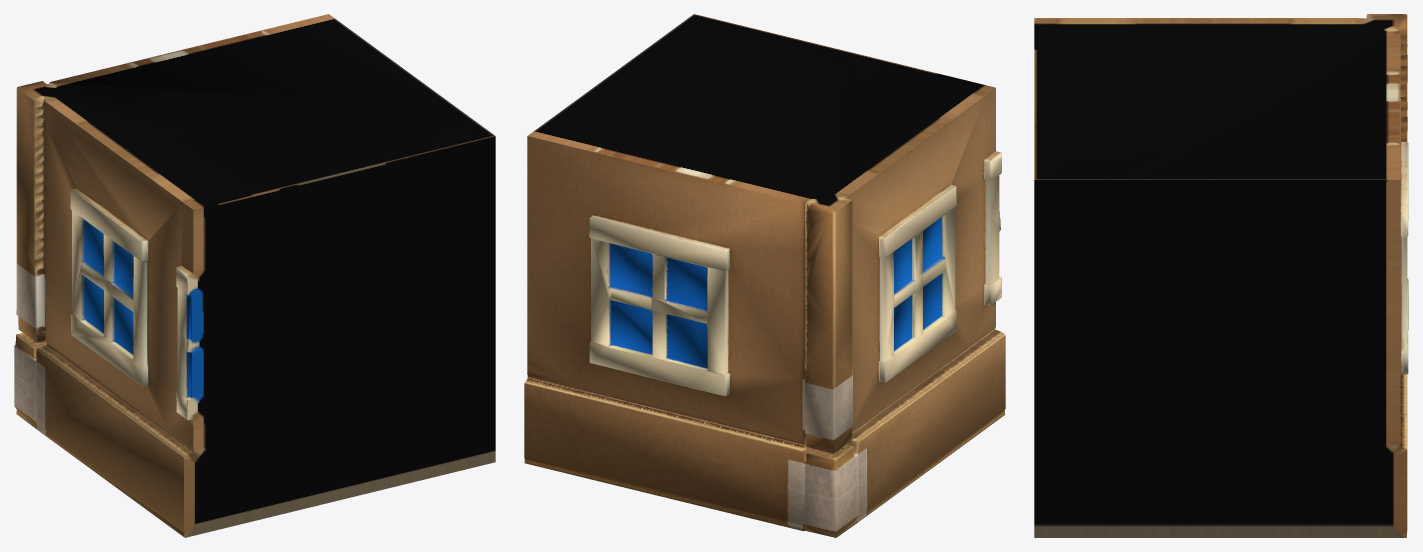
The model's file is 3-ground-floor-back-left.fbx.
The picture shows the model from 3 angles, left to right: view 1: azimuth 30°, elevation 25°; view 2: azimuth 150°, elevation 25°; view 3: azimuth 270°, elevation 25°; orthographic projection. The views are drawn at different scales.
Visible parts, largest first — view 1: ground-floor-back-left; view 2: ground-floor-back-left; view 3: ground-floor-back-left.
Boxes of the visible parts, x1,y1,x2,y2 form: ground-floor-back-left: [14, 14, 495, 537]; ground-floor-back-left: [524, 14, 1005, 537]; ground-floor-back-left: [1034, 14, 1408, 537].
Bounding box in the file's own units: 4770 × 4765 × 4514.
Materials: 1 (1 with a texture image).
